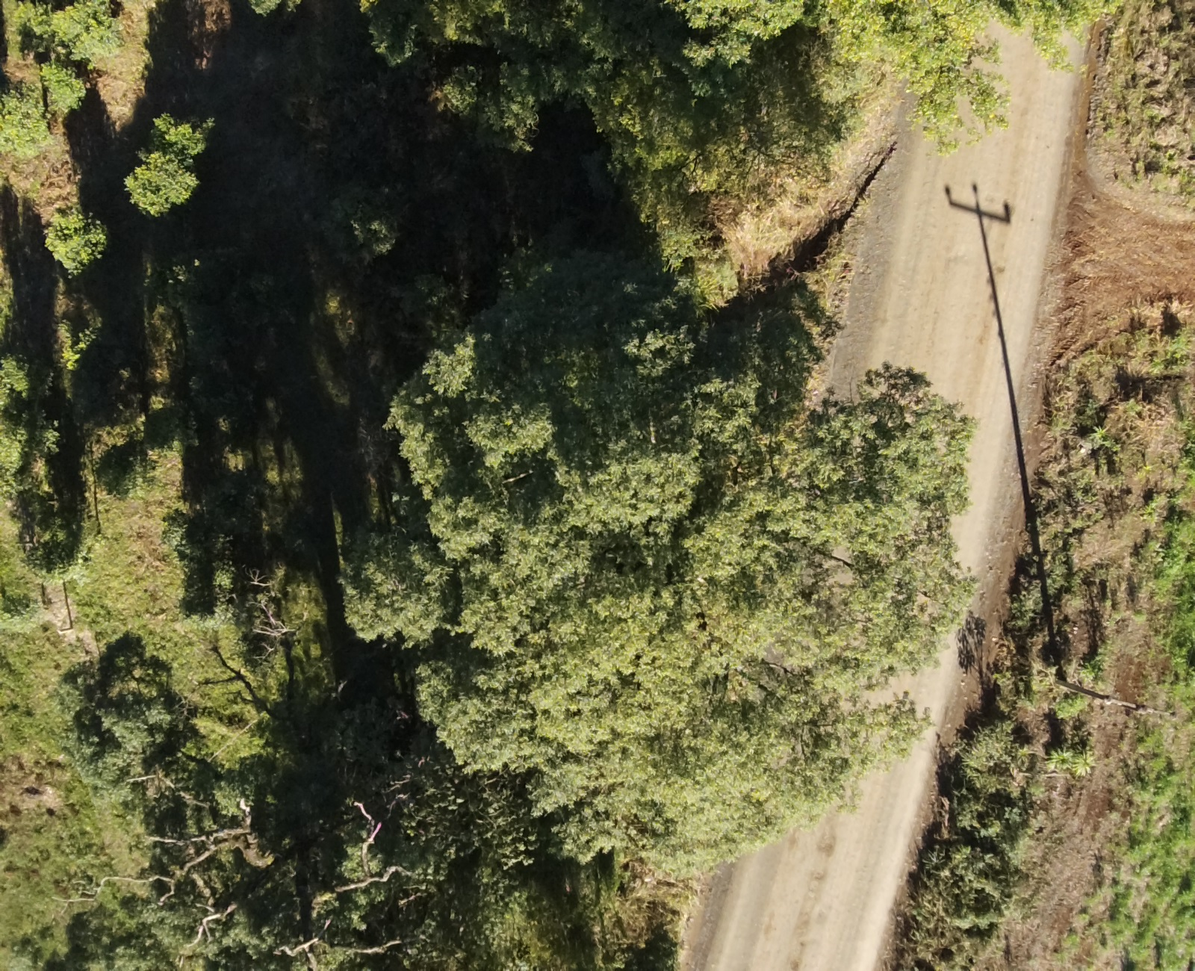erva: (32, 192, 117, 282), (117, 150, 214, 226), (34, 1, 134, 69), (137, 96, 226, 158), (0, 82, 67, 161), (35, 54, 97, 120)
